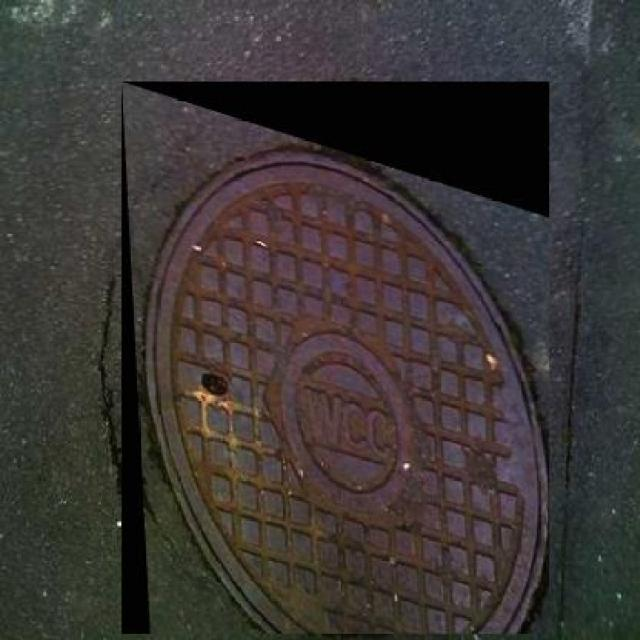Manhole: (122, 81, 550, 634)
